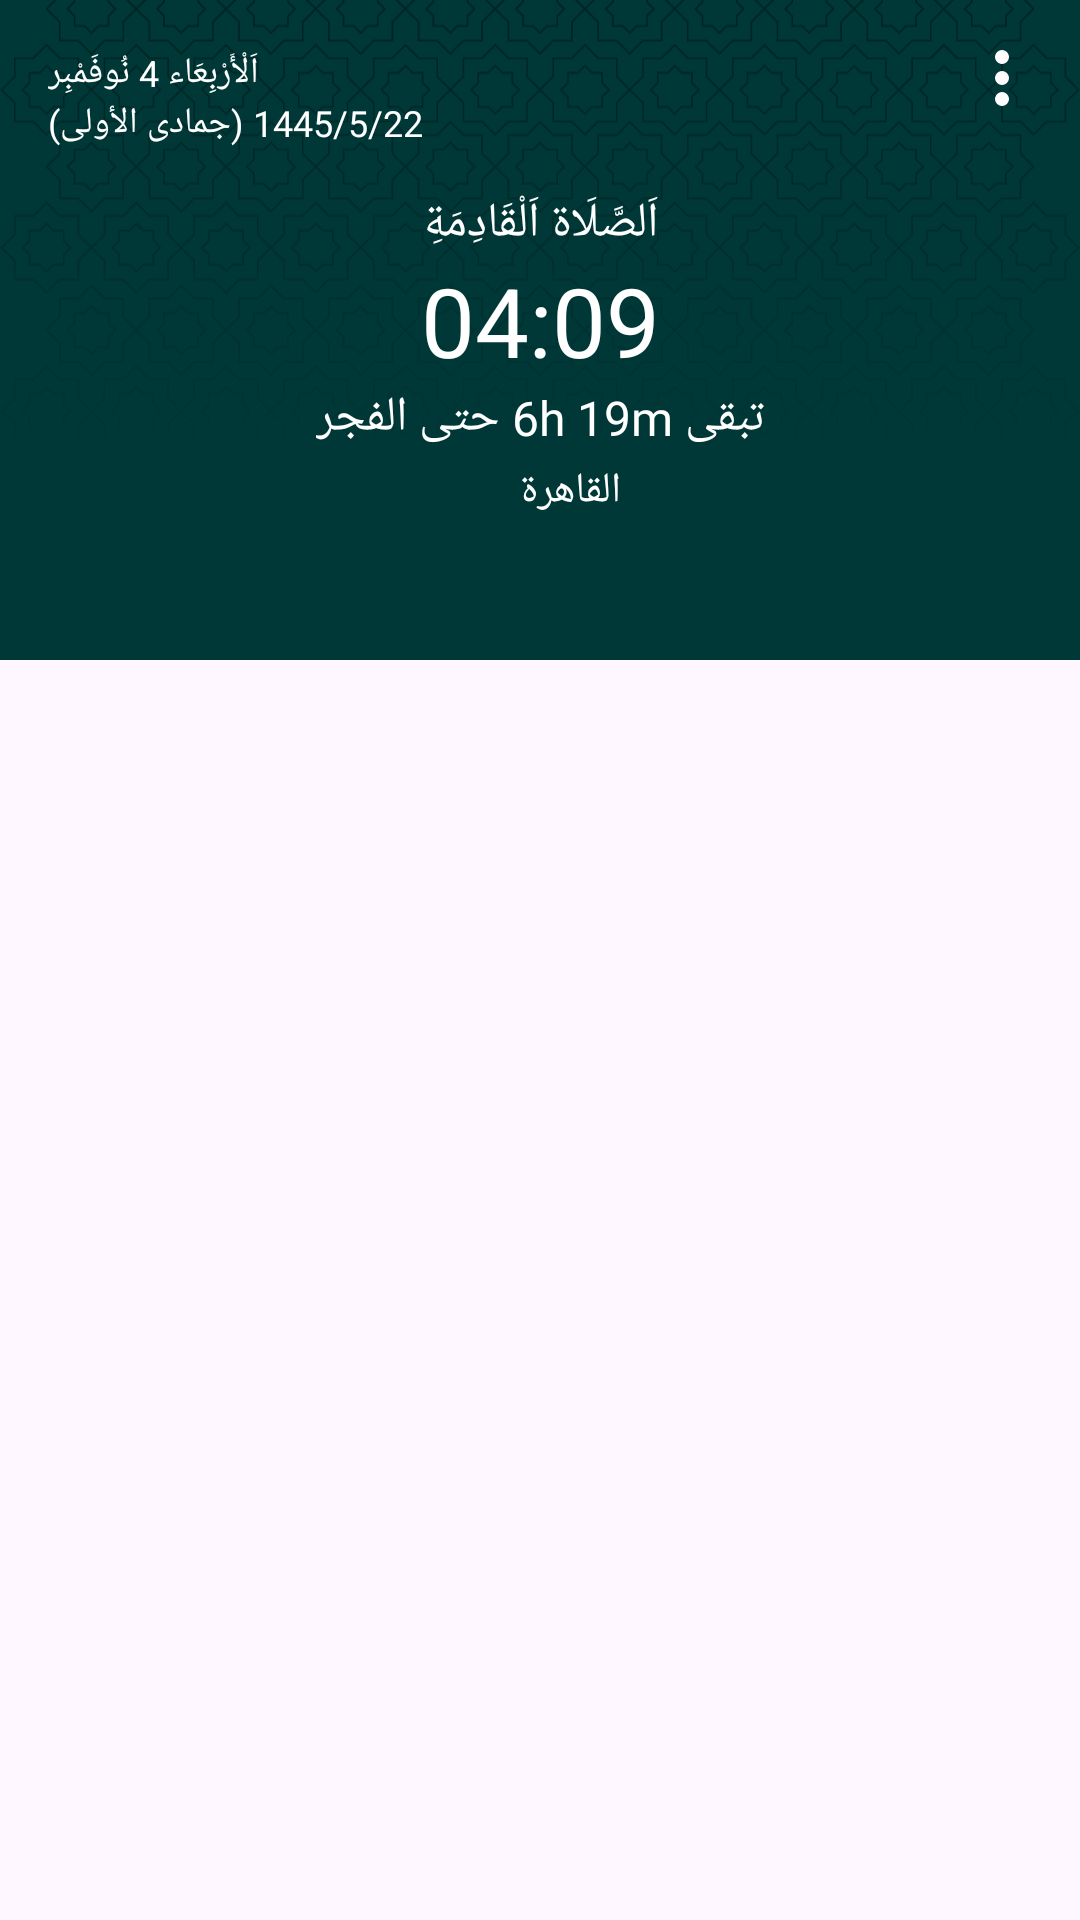

Icons on this 1080×1920 Android screen, each with its box as region(x1, y1, x2, y2):
more vert: region(995, 50, 1009, 106)
